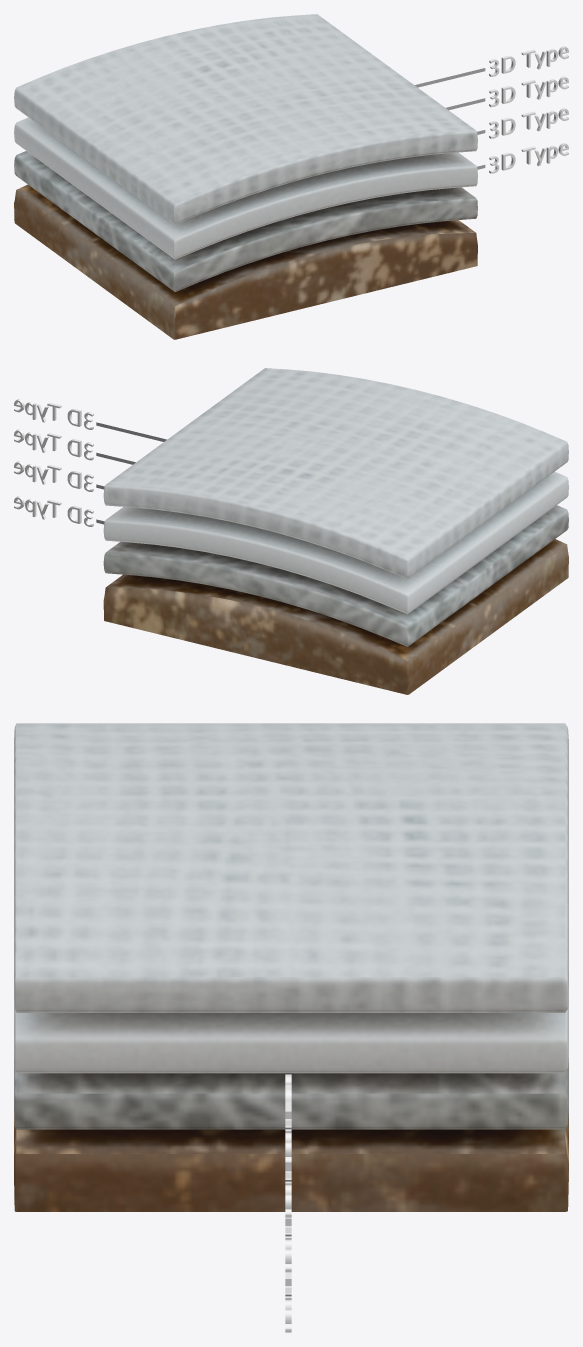
3 renders of one model, top to bottom at view 1: azimuth 30°, elevation 25°; view 2: azimuth 150°, elevation 25°; view 3: azimuth 270°, elevation 25°, orthographic. The views are drawn at different scales.
Parts seen in each view (by area): view 1: pPipe12, typeMesh2, typeMesh4, typeMesh3, typeMesh1; view 2: pPipe12, typeMesh2, typeMesh3, typeMesh4, typeMesh1; view 3: pPipe12.
Part boxes in pixels (box(x1,y1,x2,y2)): pPipe12: box(14, 14, 477, 339); typeMesh2: box(489, 76, 568, 107); typeMesh4: box(489, 143, 568, 173); typeMesh3: box(489, 108, 568, 138); typeMesh1: box(489, 46, 568, 76); pPipe12: box(103, 368, 568, 694); typeMesh2: box(14, 429, 93, 460); typeMesh3: box(14, 461, 93, 491); typeMesh4: box(14, 496, 93, 526); typeMesh1: box(14, 399, 93, 429); pPipe12: box(14, 723, 568, 1211).
Bounding box in the file's own units: 0.3682 × 0.1117 × 0.2165.
3 materials, 1 textured.
